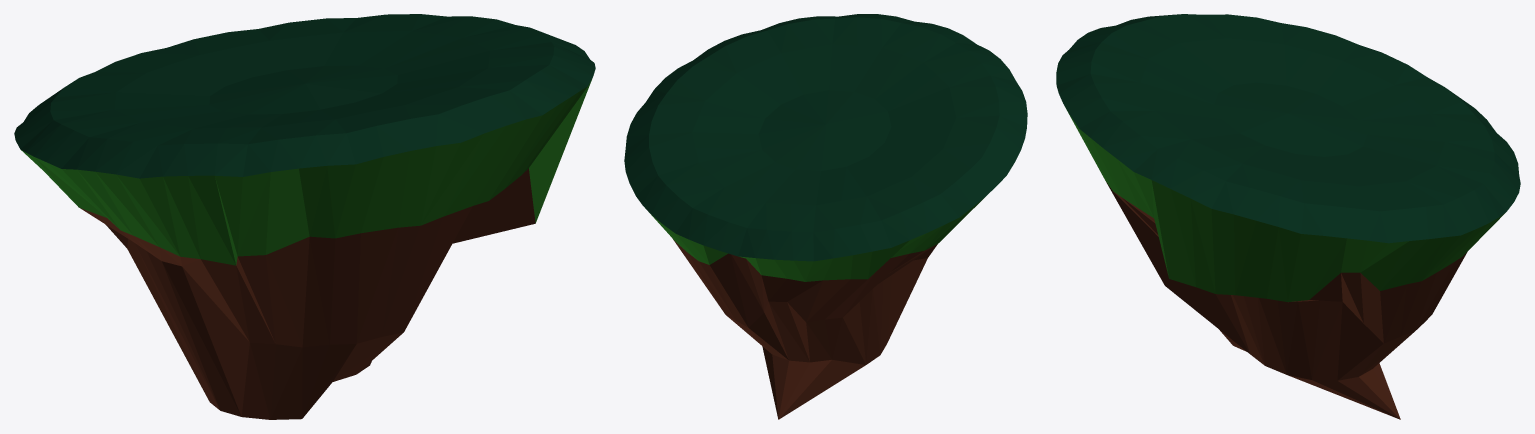
File: FloatingIslandSlantColor.fbx
3 views of the same model, side by side, from view 1: azimuth 30°, elevation 25°; view 2: azimuth 150°, elevation 25°; view 3: azimuth 270°, elevation 25° (orthographic). The views are drawn at different scales.
Visible parts, largest first — view 1: Cone; view 2: Cone; view 3: Cone.
Boxes of the visible parts, x1,y1,x2,y2 form: Cone: [14, 14, 595, 419]; Cone: [624, 14, 1027, 419]; Cone: [1056, 14, 1520, 419].
Bounding box in the file's own units: 350 × 285 × 340.
